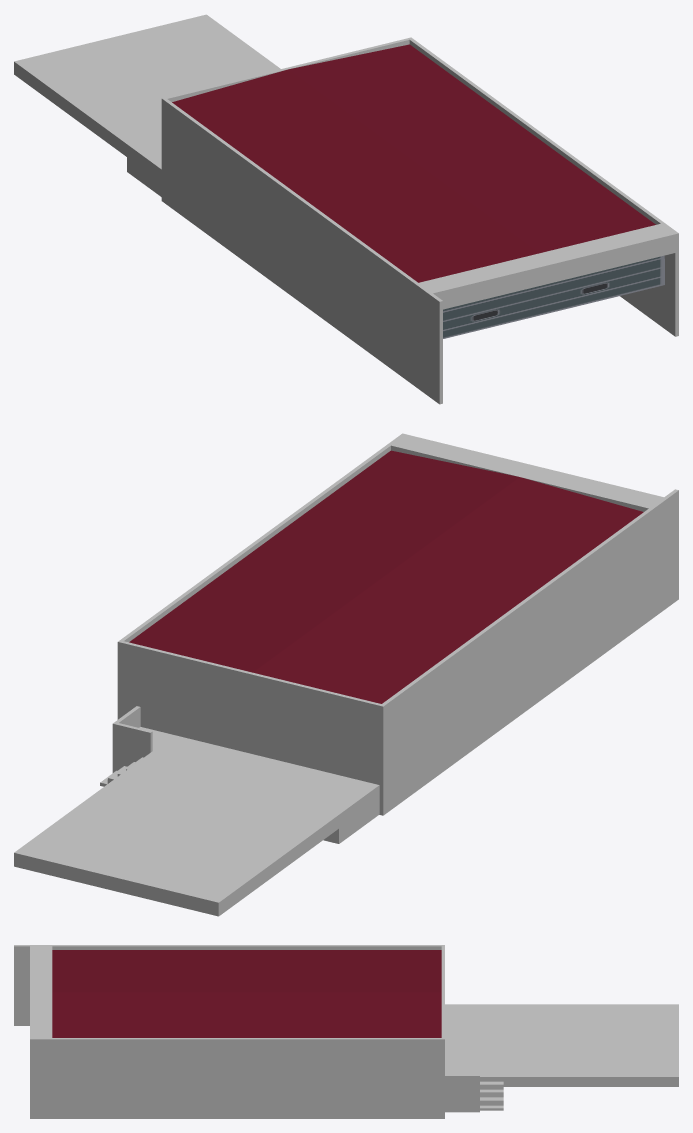
Rendered from Hangar_LOD02.gltf.
3 renders of one model, top to bottom at view 1: azimuth 30°, elevation 25°; view 2: azimuth 150°, elevation 25°; view 3: azimuth 270°, elevation 25°, orthographic. The views are drawn at different scales.
Visible parts, largest first — view 1: walls.001, roof.002, roof.001, sectional_door.001; view 2: walls.001, roof.001, roof.002, walls.002; view 3: walls.001, roof.001, roof.002, walls.002.
Boxes of the visible parts, <box> form: walls.001: <box>14,14,678,404</box>; roof.002: <box>172,44,643,282</box>; roof.001: <box>172,44,655,282</box>; sectional_door.001: <box>443,255,664,338</box>; walls.001: <box>14,433,678,916</box>; roof.001: <box>129,450,643,703</box>; roof.002: <box>130,451,642,703</box>; walls.002: <box>134,661,379,813</box>; walls.001: <box>14,945,678,1118</box>; roof.001: <box>52,950,441,1037</box>; roof.002: <box>52,950,441,1037</box>; walls.002: <box>463,1004,503,1081</box>.
Size of the model in its own units: 14 by 5.5 by 41.67.
